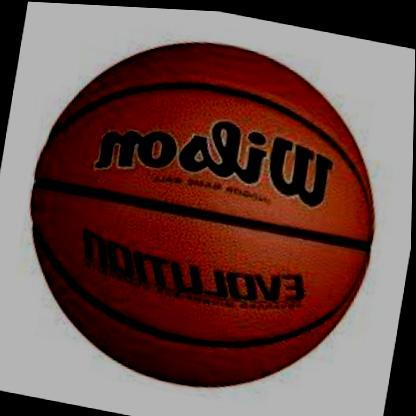basketball: (6, 10, 400, 414)
